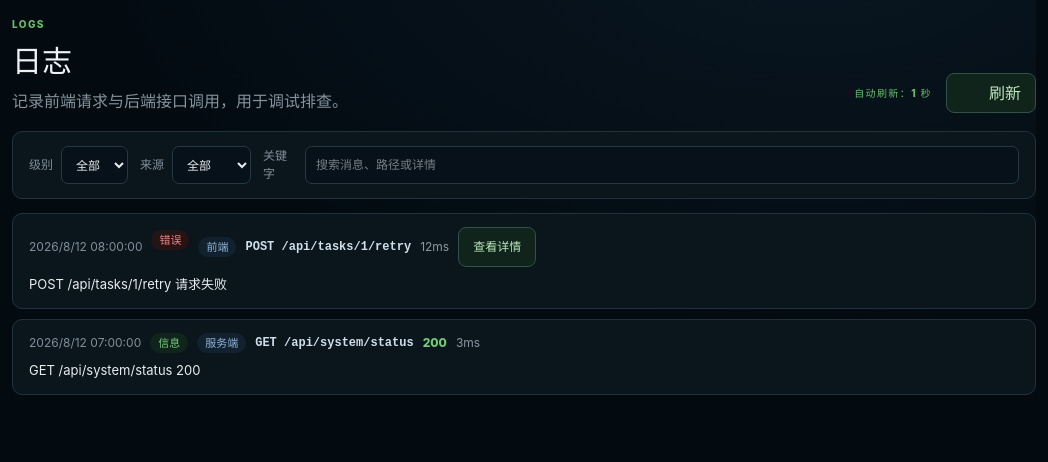
it: LogsView › expands and collapses the detail area
Expected: the text "POST /api/tasks/1/retry 请求失败" is shown, [29,276,227,292]
Click the button "查看详情".
click(497, 247)  # box [458,227,536,267]
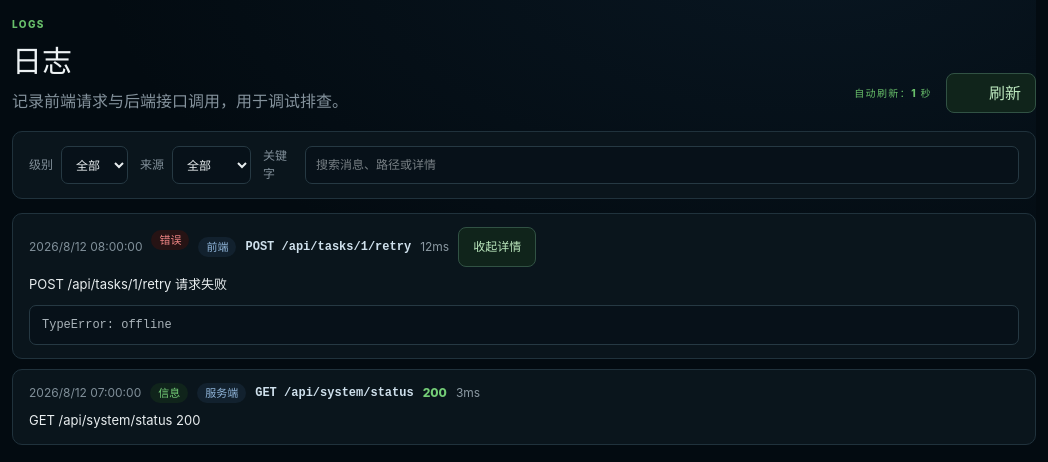
Result: the text "TypeError: offline" is shown at [29,304,1019,344]
Click the button "收起详情".
click(497, 247)  # box [458,227,536,267]
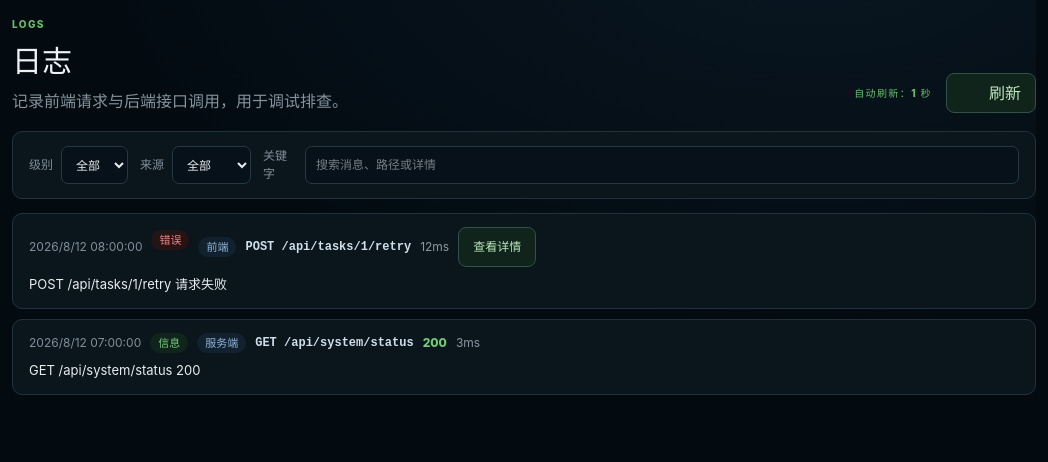
Result: the text "TypeError: offline" is gone
